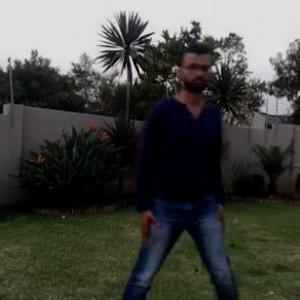follow: (136, 32, 238, 299)
